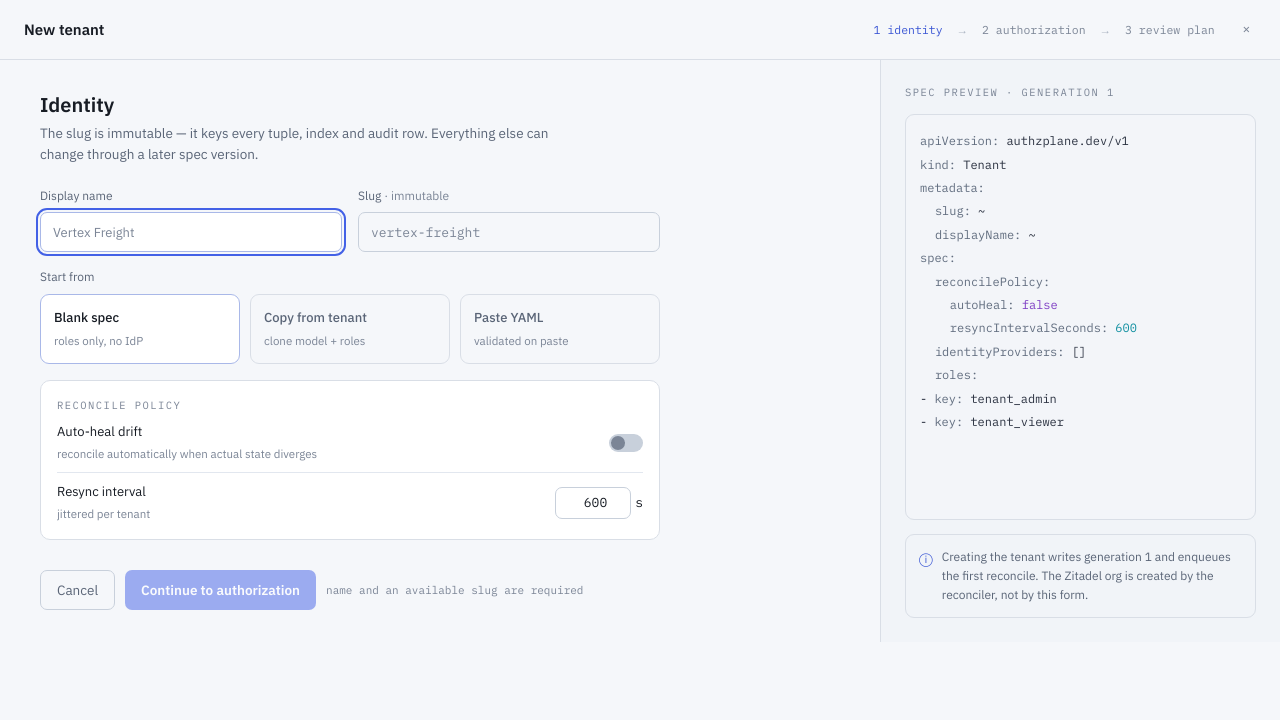
NewTenantWizard · identity › validates the slug locally before asking the server
In the field labelled "Slug · immutable": (509,232) x1=358 y1=212 x2=660 y2=252, type "ab"
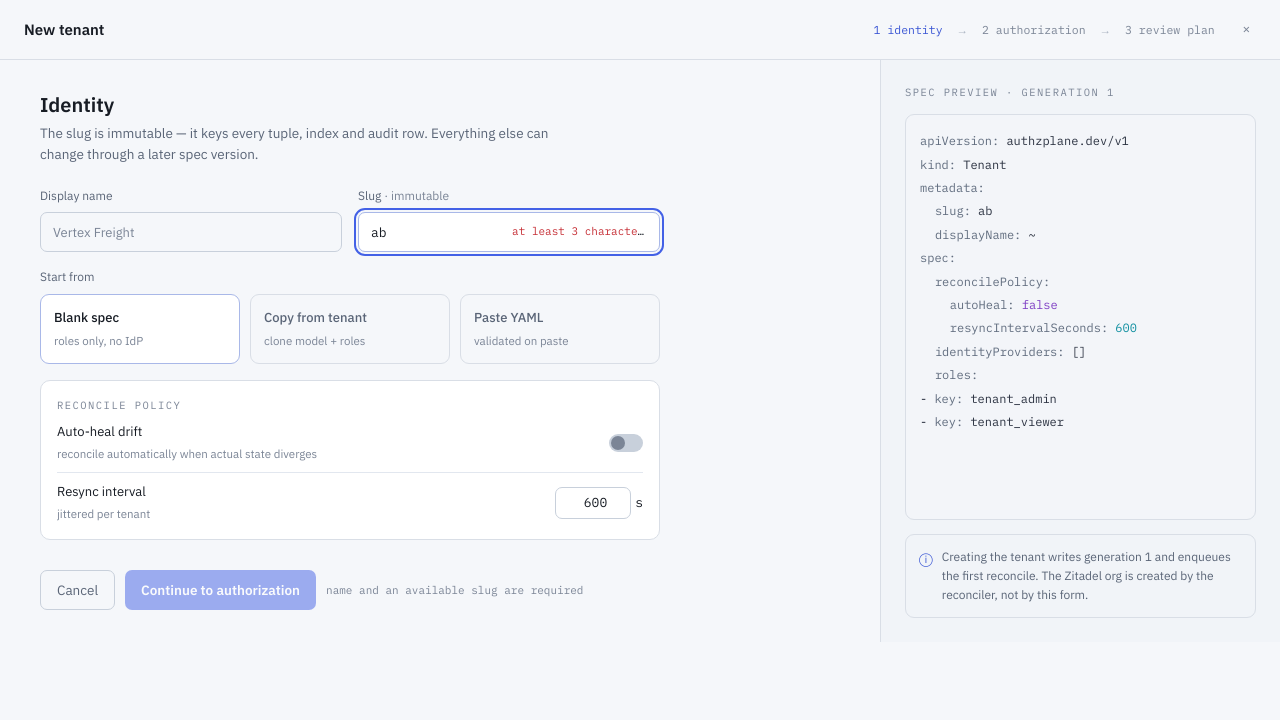
Check: the message reads "at least 3 characters", box x1=512 y1=225 x2=651 y2=239
